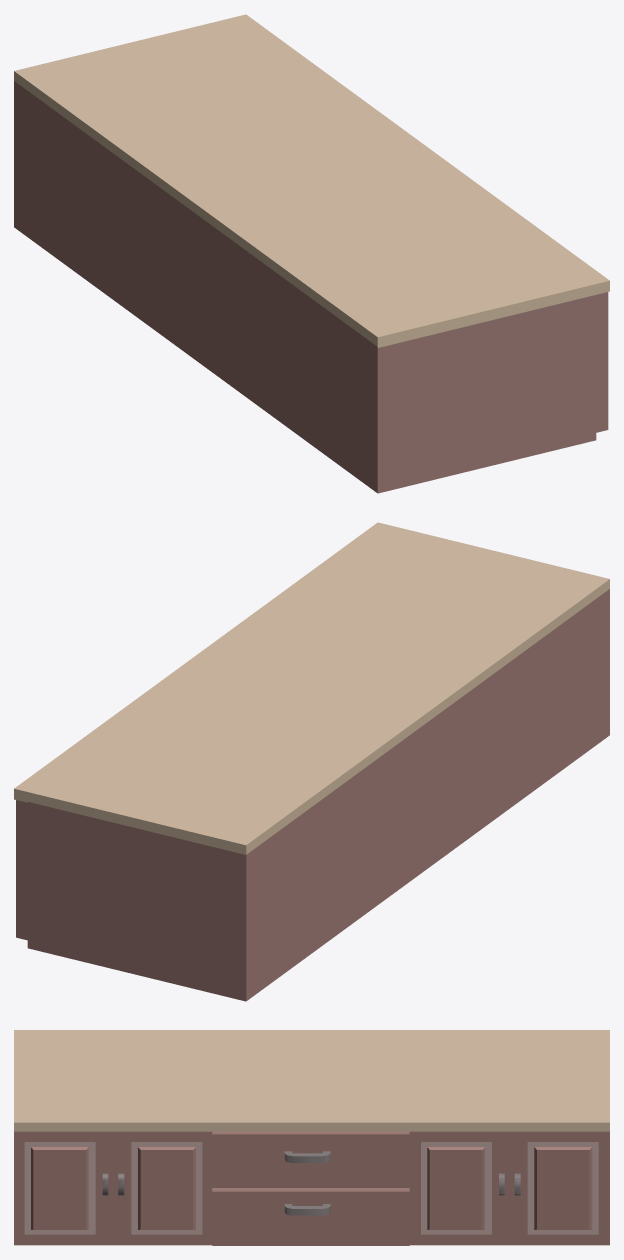
Rendered from cabinet-bathroom-transformed.glb.
The picture shows the model from 3 angles, top to bottom: view 1: azimuth 30°, elevation 25°; view 2: azimuth 150°, elevation 25°; view 3: azimuth 270°, elevation 25°; orthographic projection. The views are drawn at different scales.
Visible parts, largest first — view 1: Cube 86, Cube 76, Cube 83.003; view 2: Cube 86, Cube 76, Cube 83; view 3: Cube 86, Cube 81, Cube 80, Cube 83, Cube 83.003, Cube 83.001, Cube 83.002, Merged Geometry 2.005, Cube 76, Merged Geometry.032.
Boxes of the visible parts, x1,y1,x2,y2 form: Cube 86: (14, 14, 609, 347); Cube 76: (14, 81, 596, 493); Cube 83.003: (596, 292, 608, 432); Cube 86: (14, 522, 609, 854); Cube 76: (27, 589, 609, 1001); Cube 83: (16, 800, 27, 940); Cube 86: (14, 1030, 609, 1131); Cube 81: (212, 1188, 409, 1245); Cube 80: (212, 1131, 409, 1187); Cube 83: (510, 1131, 607, 1245); Cube 83.003: (15, 1131, 112, 1245); Cube 83.001: (114, 1131, 210, 1245); Cube 83.002: (412, 1131, 508, 1245); Merged Geometry 2.005: (24, 1142, 598, 1234); Cube 76: (14, 1131, 609, 1245); Merged Geometry.032: (102, 1151, 520, 1215).
Bounding box in the file's own units: 1.23 × 0.7479 × 3.16.
